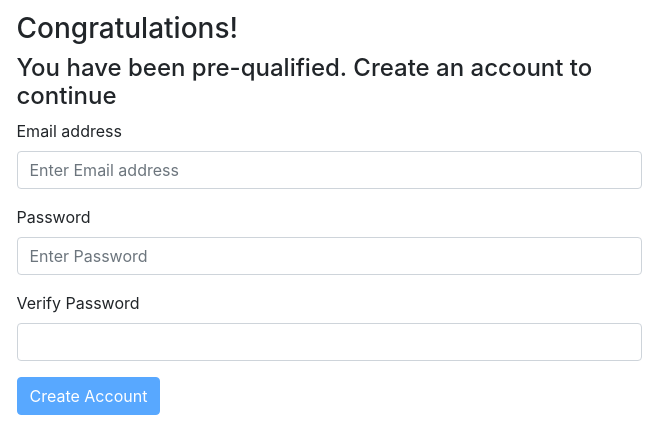
CreateAccountPage › should enable 'submit' button when form complete and valid
Type "test@example.com" into the field labelled "Email address" at point(329, 170), box [16,151,642,189]
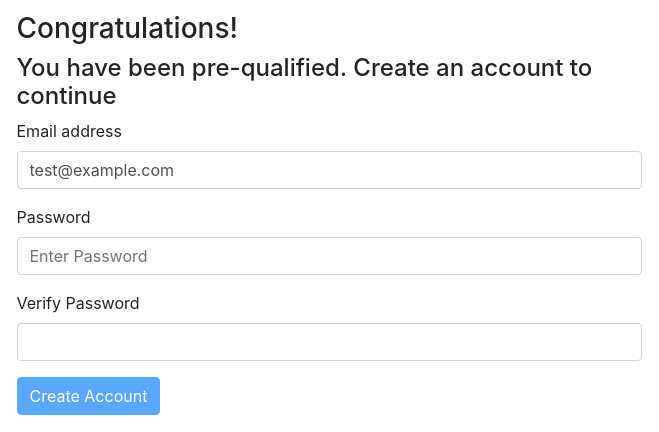
Type "test1234" into the password field labelled "Password" at point(329, 256), box [16,237,642,275]
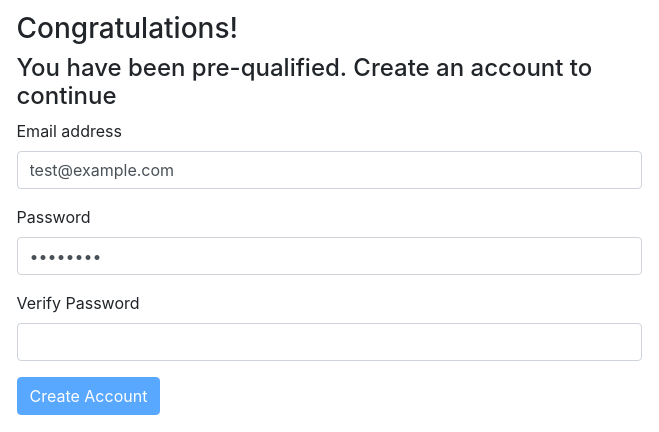
Type "test1234" into the password field labelled "Verify Password" at point(329, 342), box [16,323,642,361]
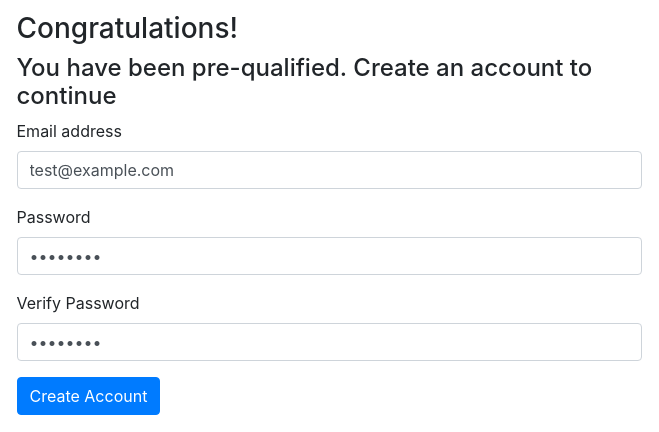
Expected: the button with id "create_account" is enabled, [16,377,160,415]
